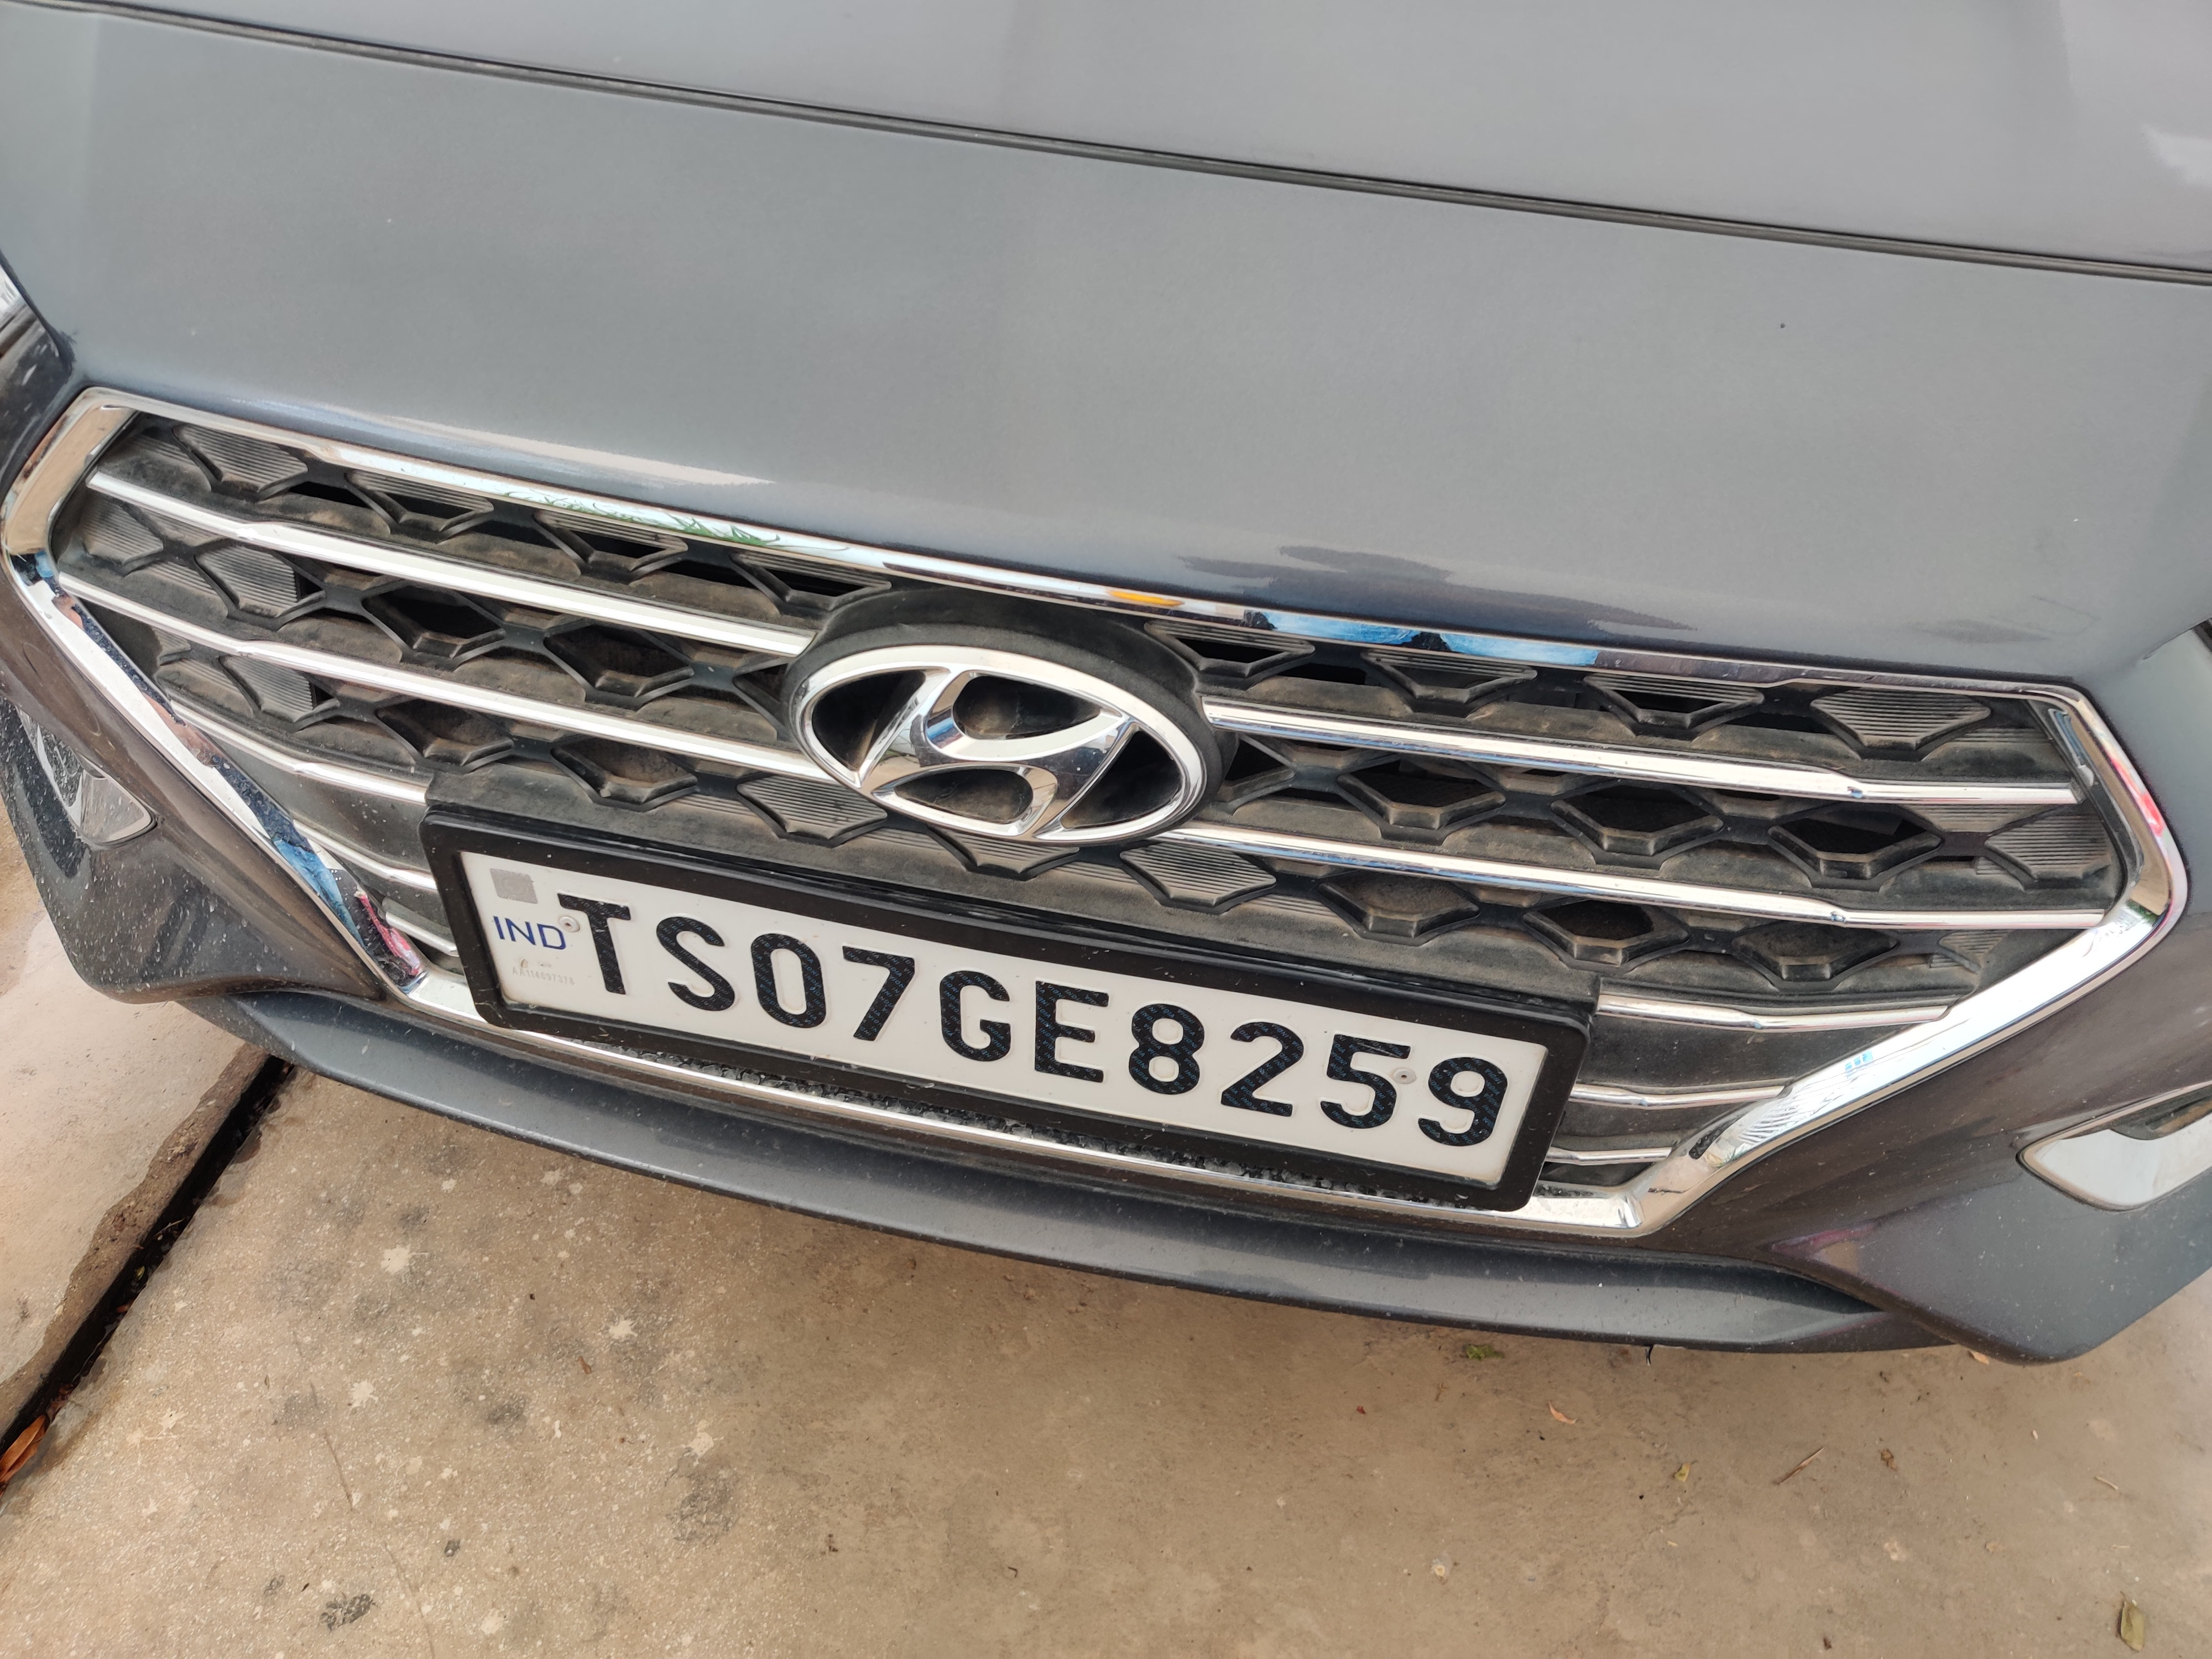plate: (415, 785, 1590, 1265)
